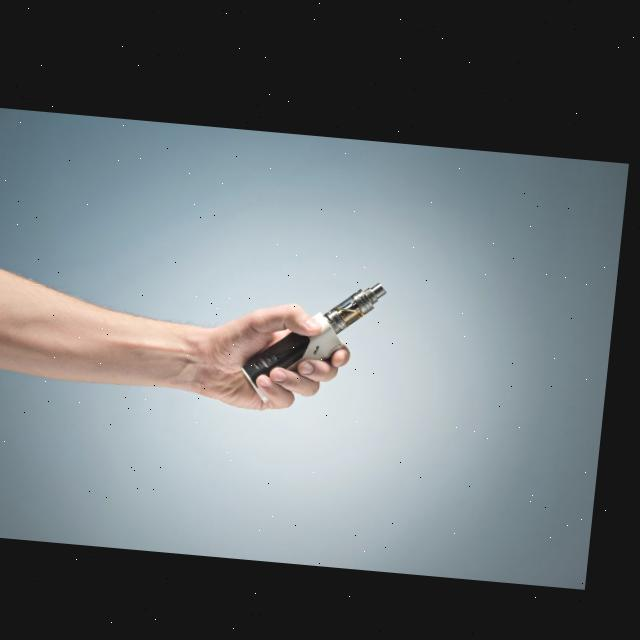vape: (249, 264, 394, 404)
